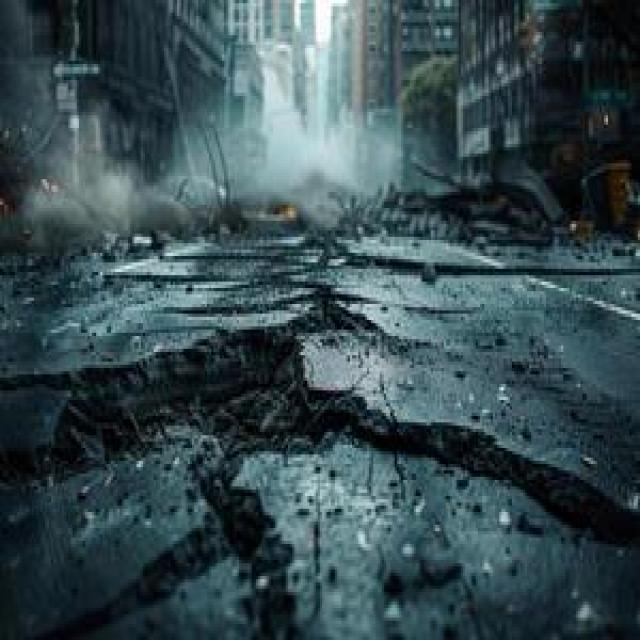road collapse: (0, 134, 631, 636)
